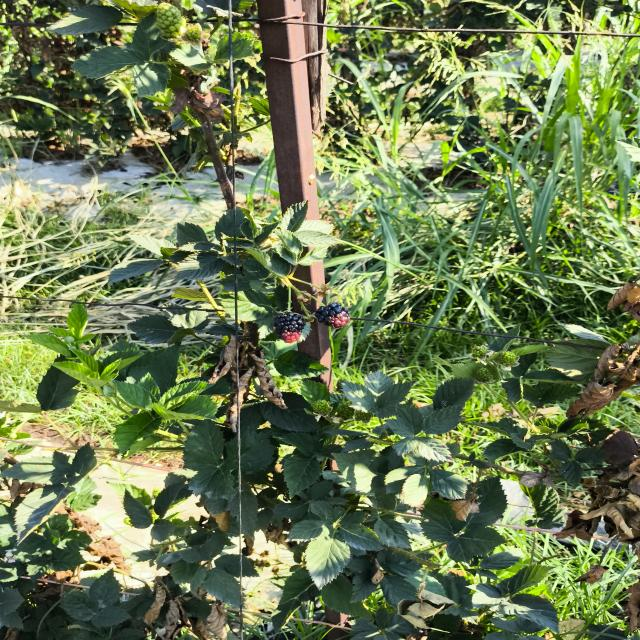marron: (274, 312, 305, 343), (314, 302, 350, 327)
